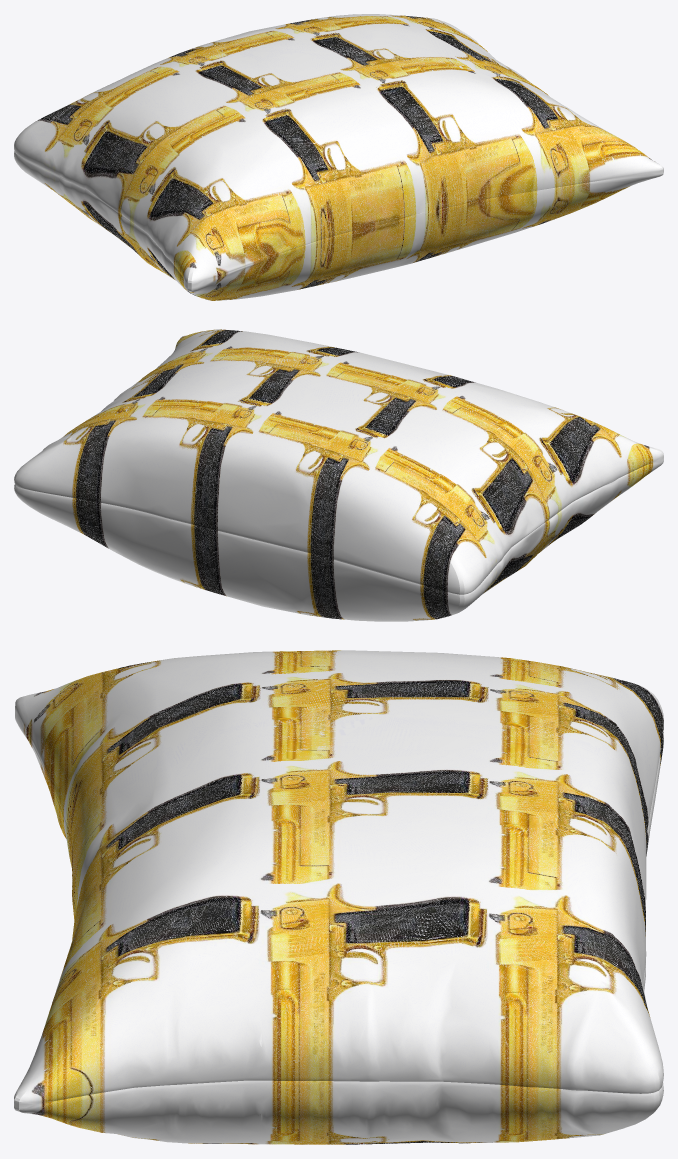
The picture shows the model from 3 angles, top to bottom: view 1: azimuth 30°, elevation 25°; view 2: azimuth 150°, elevation 25°; view 3: azimuth 270°, elevation 25°; orthographic projection. The views are drawn at different scales.
Visible parts, largest first — view 1: mesh1_mesh1-geometry; view 2: mesh1_mesh1-geometry; view 3: mesh1_mesh1-geometry.
Part boxes in pixels (x1,y1,x2,y2): mesh1_mesh1-geometry: (14,14,663,300); mesh1_mesh1-geometry: (14,329,663,621); mesh1_mesh1-geometry: (14,650,663,1144).
Size of the model in its own units: 0.7899 by 0.2851 by 0.5429.
